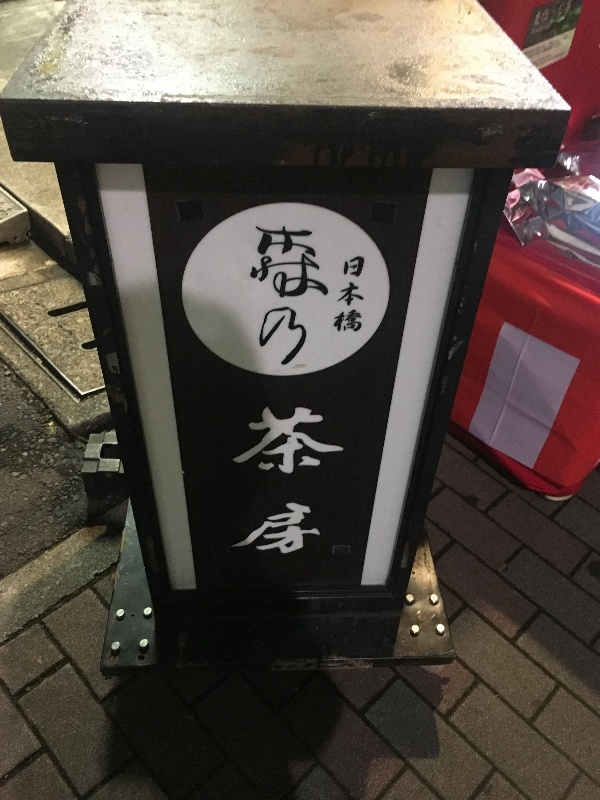text: (257, 399, 272, 565), (273, 399, 288, 565), (289, 399, 304, 565), (305, 399, 320, 565), (321, 399, 336, 565), (337, 399, 352, 565), (257, 222, 272, 372), (273, 222, 288, 372), (289, 222, 304, 372), (305, 222, 320, 372), (321, 222, 336, 372), (245, 399, 256, 565), (337, 222, 347, 372), (353, 399, 360, 565), (353, 255, 366, 335), (343, 255, 352, 335), (545, 1, 560, 29), (561, 1, 572, 29), (537, 1, 544, 29), (255, 222, 256, 372)
